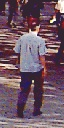person: (7, 14, 57, 118)
